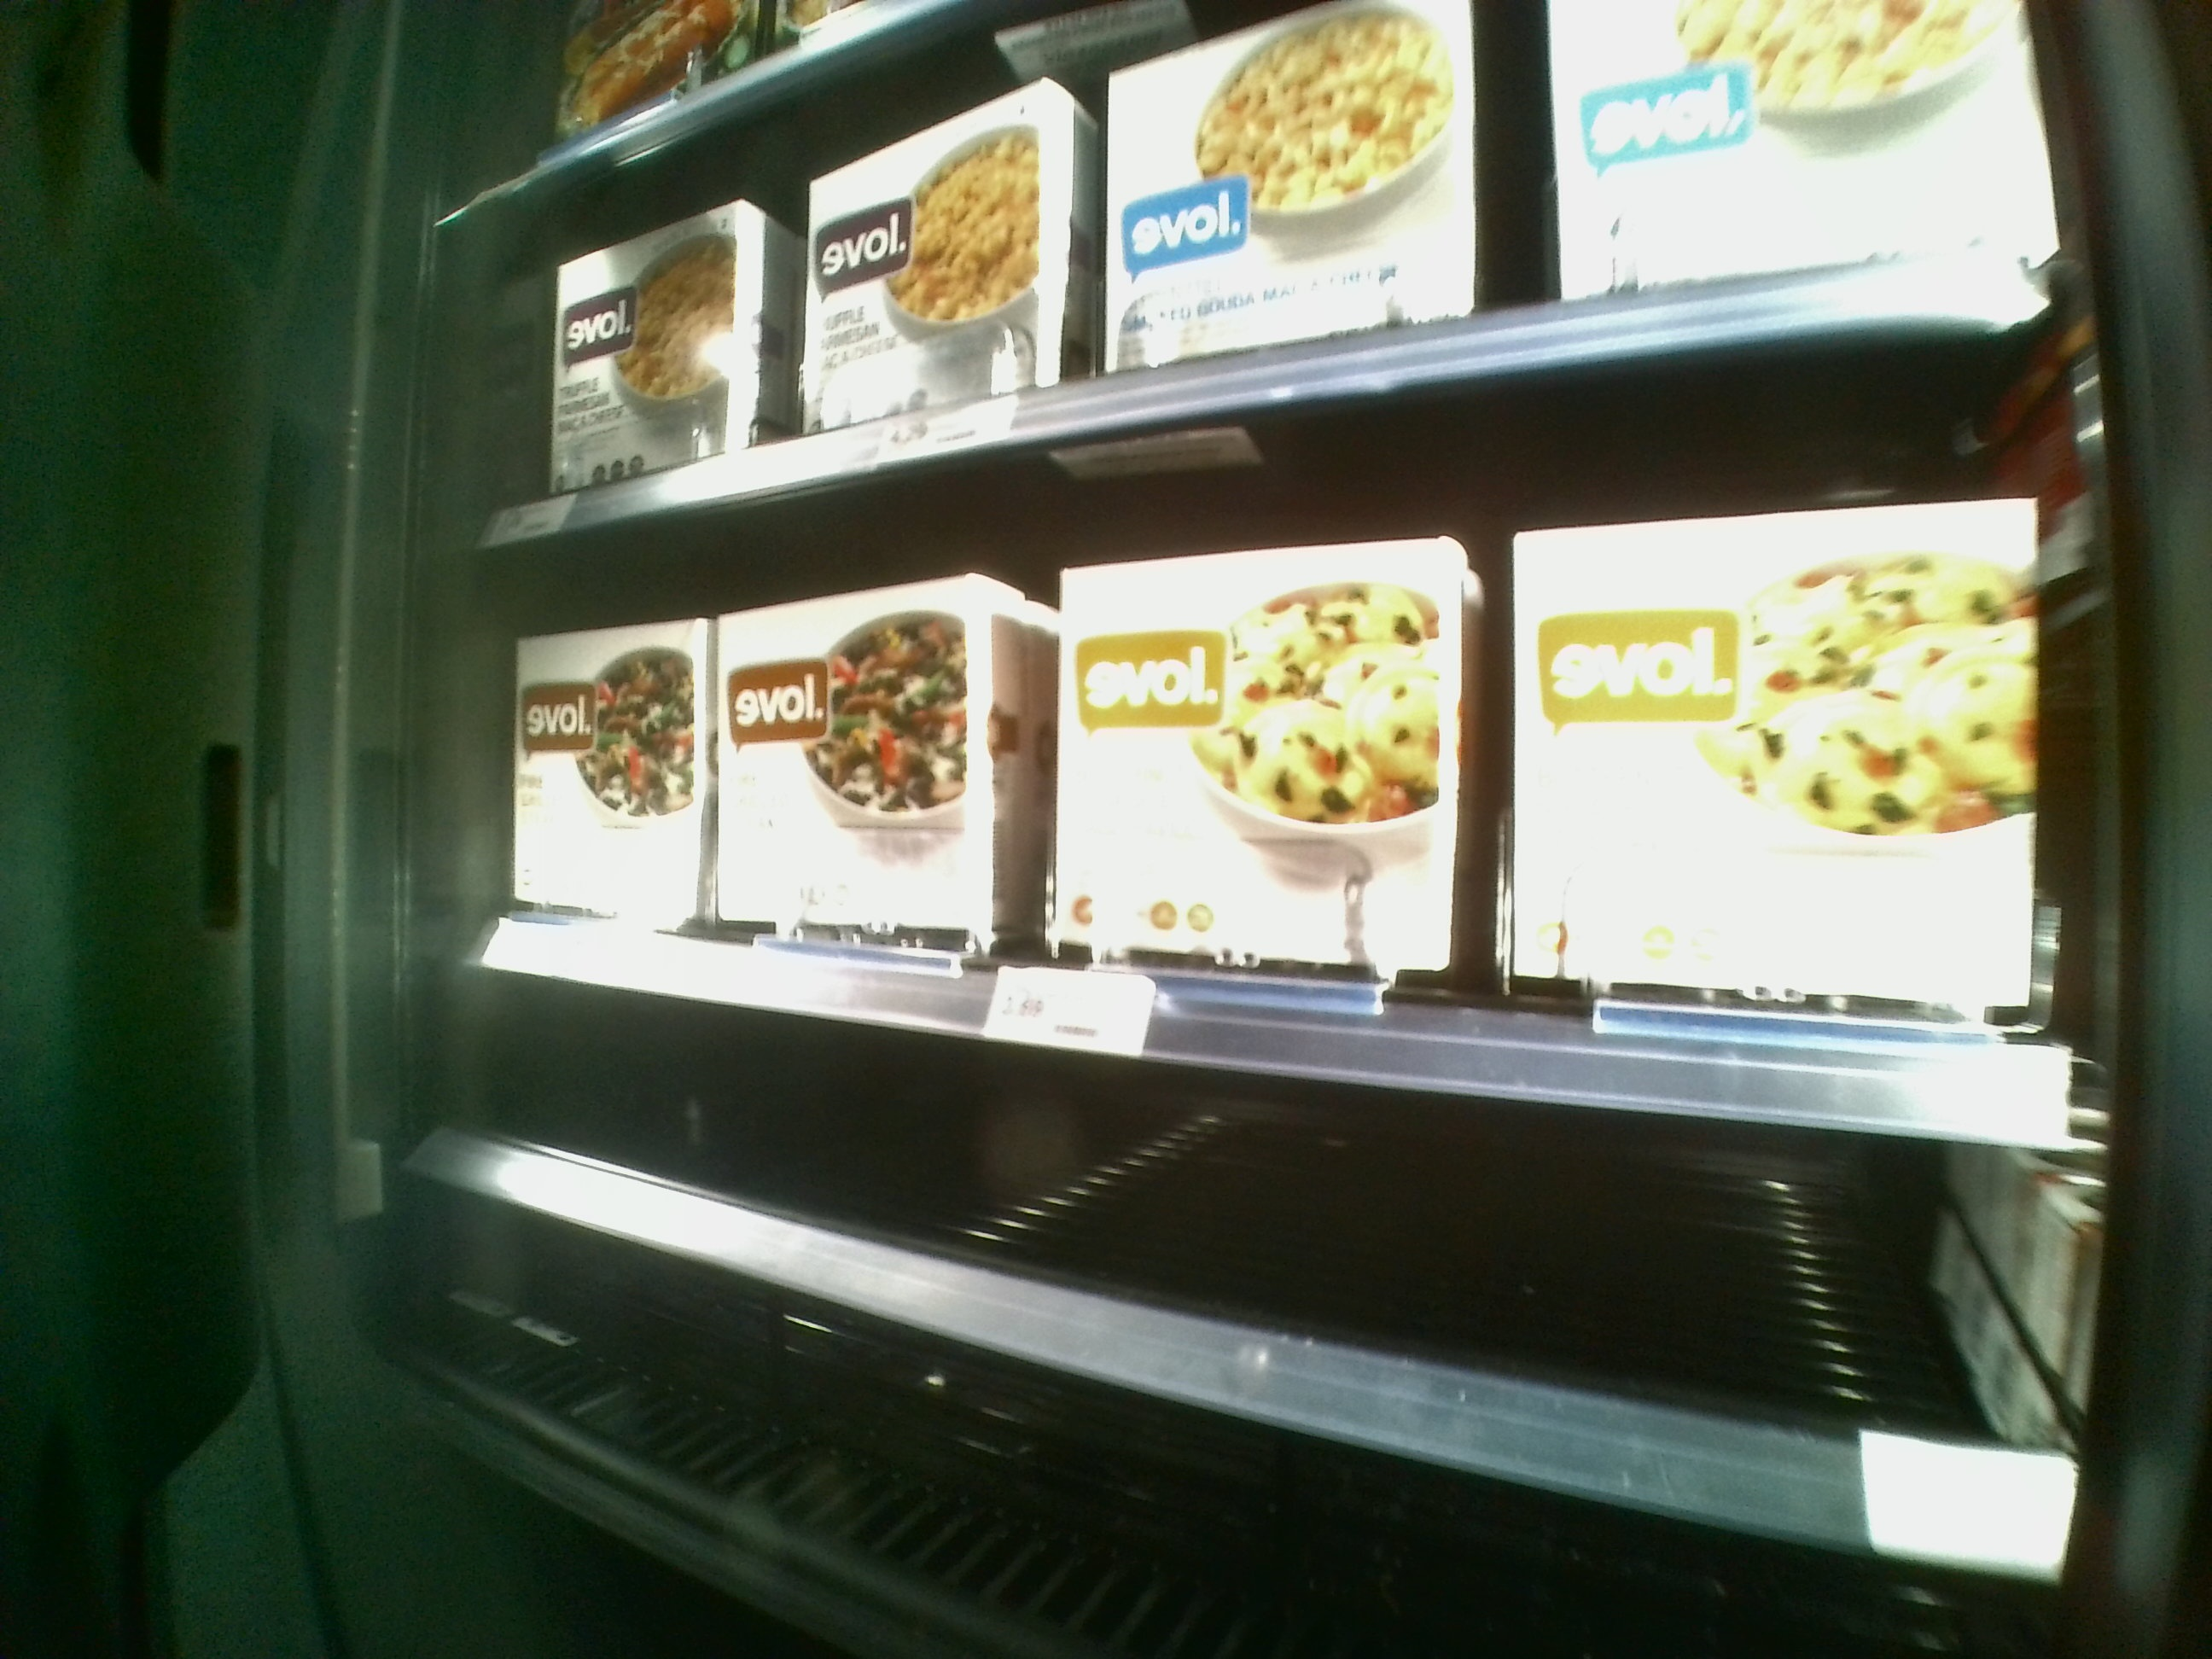shelf: (458, 446, 2088, 1276)
